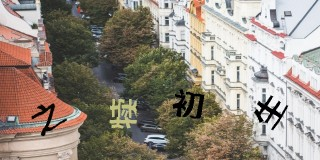之: (31, 102, 67, 136)
初: (171, 87, 205, 119)
犊: (108, 96, 141, 130)
生: (254, 94, 288, 131)
